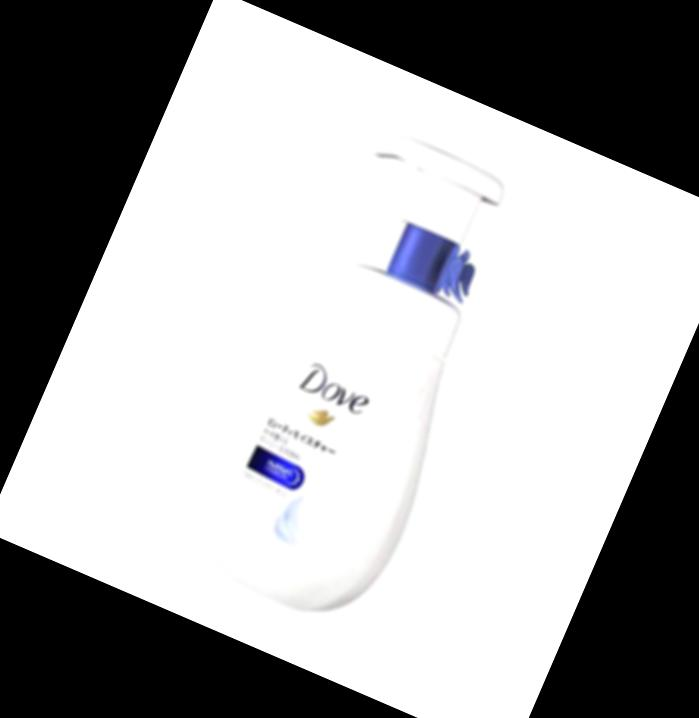cosmetic: (180, 117, 553, 643)
